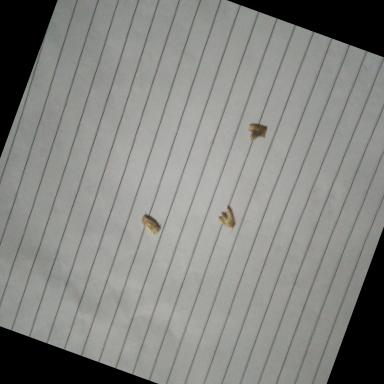pbw: (213, 202, 242, 237), (242, 118, 270, 147), (138, 212, 164, 236)
